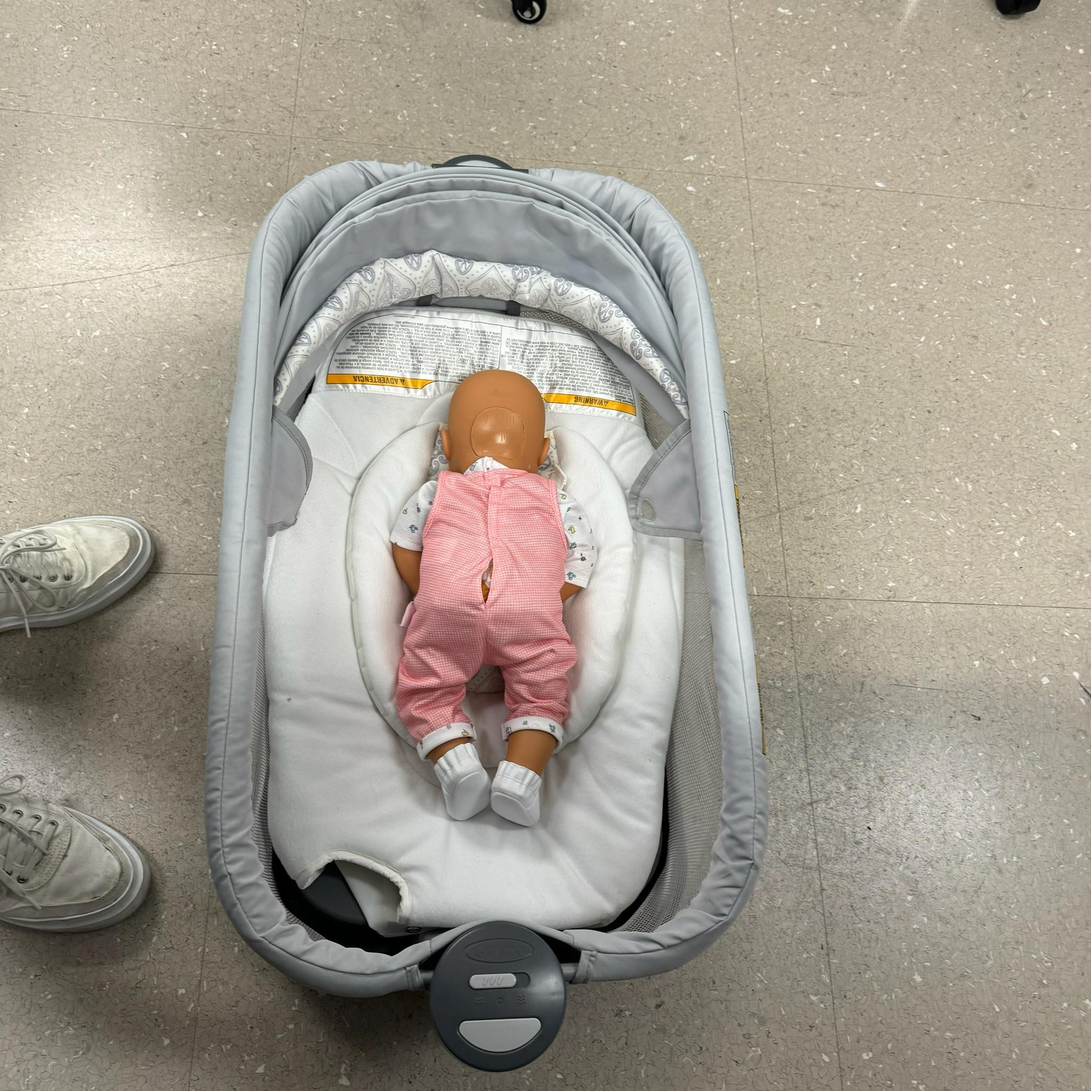baby: (381, 363, 606, 824)
